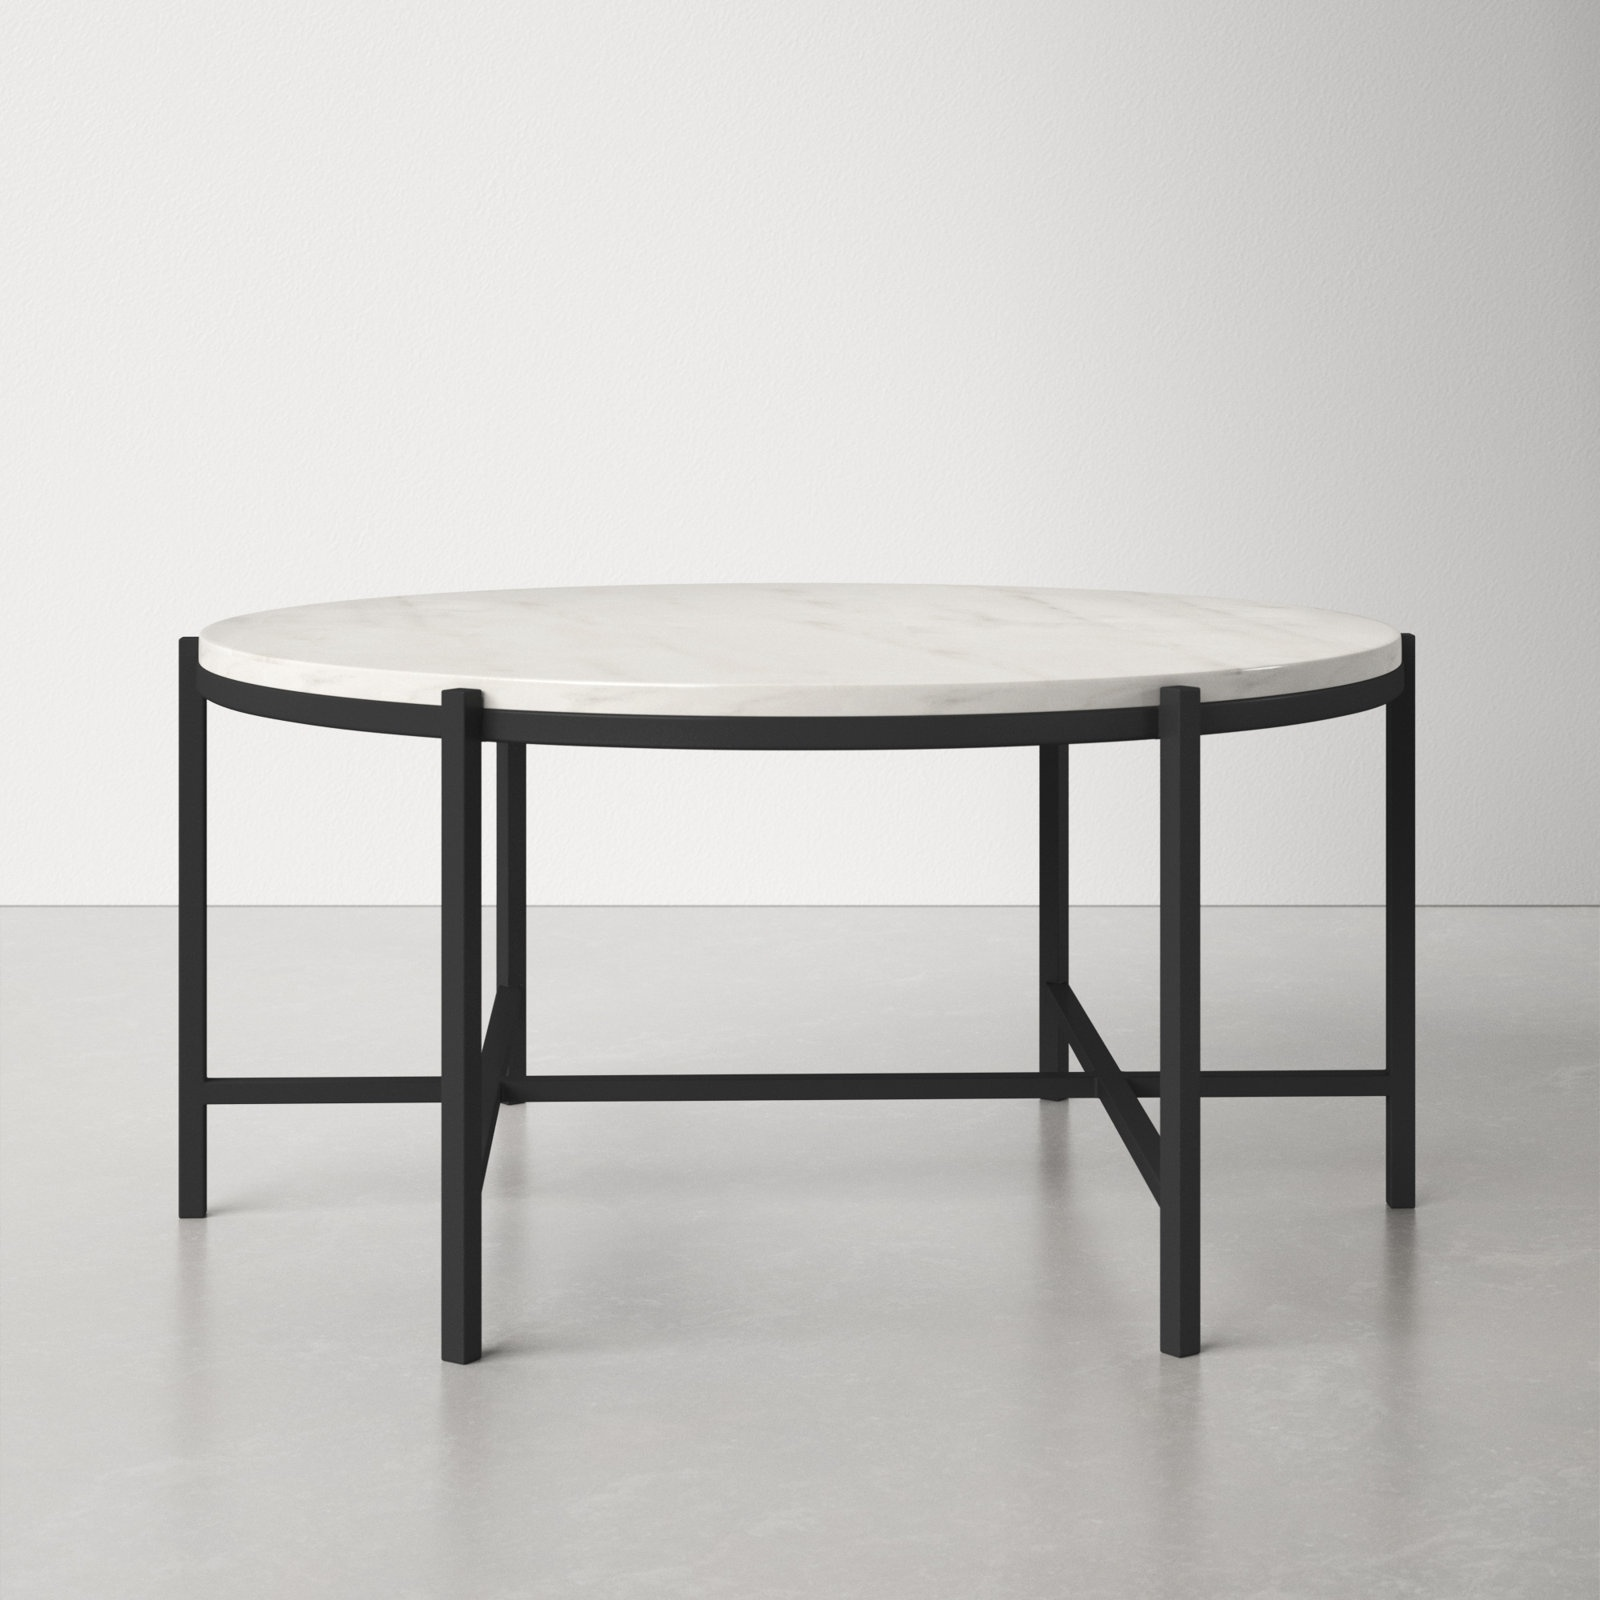obstacle: (179, 585, 1414, 1363)
